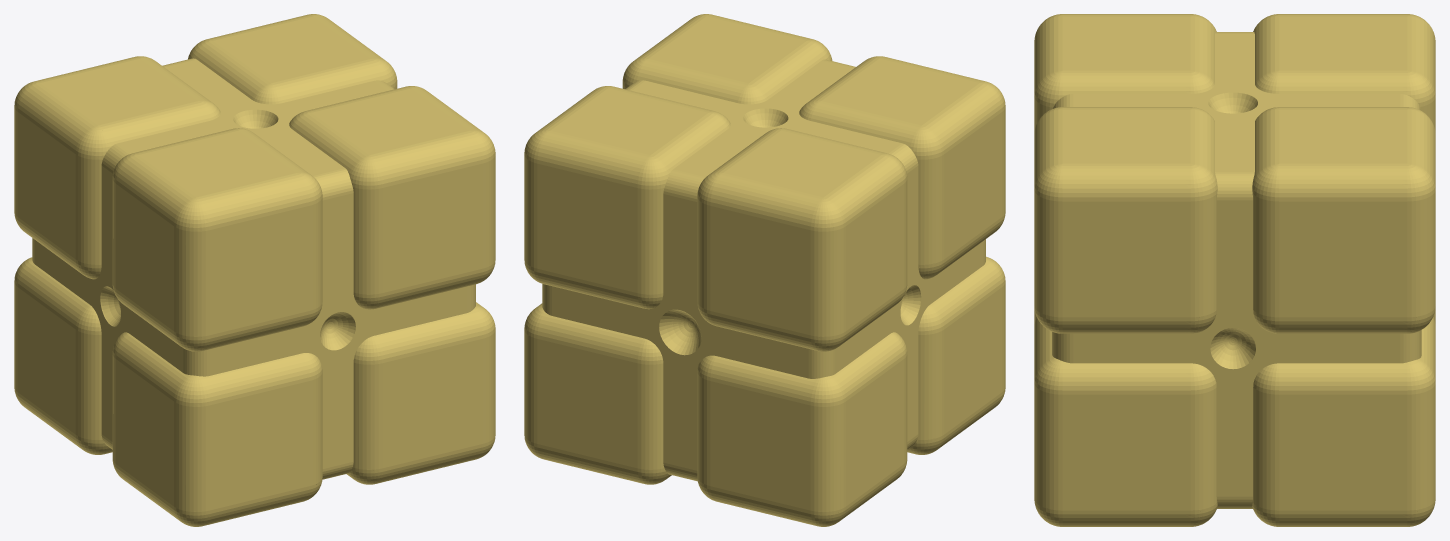
The picture shows the model from 3 angles, left to right: view 1: azimuth 30°, elevation 25°; view 2: azimuth 150°, elevation 25°; view 3: azimuth 270°, elevation 25°; orthographic projection. The views are drawn at different scales.
Parts seen in each view (by area): view 1: Mesh_Mesh_head_geo.001_lambert2SG.001; view 2: Mesh_Mesh_head_geo.001_lambert2SG.001; view 3: Mesh_Mesh_head_geo.001_lambert2SG.001.
Boxes of the visible parts, x1=… form: Mesh_Mesh_head_geo.001_lambert2SG.001: x1=14, y1=14, x2=495, y2=526; Mesh_Mesh_head_geo.001_lambert2SG.001: x1=524, y1=14, x2=1005, y2=526; Mesh_Mesh_head_geo.001_lambert2SG.001: x1=1034, y1=14, x2=1435, y2=526.
Bounding box in the file's own units: 7.25 × 7.12 × 7.19.
